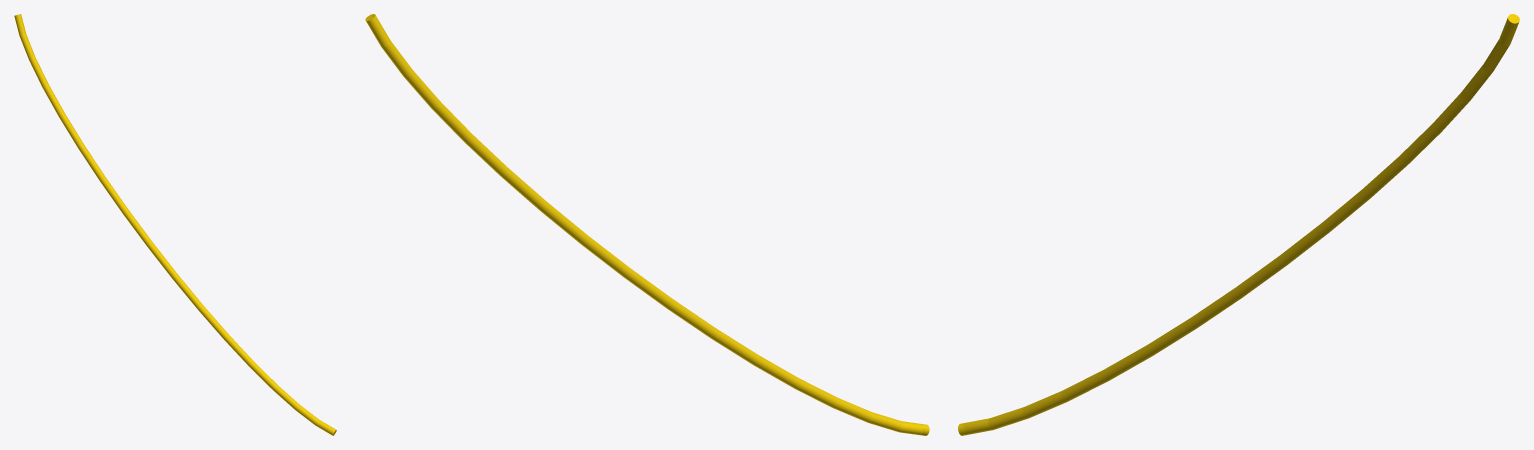
Rendered from Event_421364160_track_10.fbx.
The picture shows the model from 3 angles, left to right: view 1: azimuth 90°, elevation 25°; view 2: azimuth 150°, elevation 25°; view 3: azimuth 270°, elevation 25°; orthographic projection. The views are drawn at different scales.
Parts seen in each view (by area): view 1: Model; view 2: Model; view 3: Model.
Boxes of the visible parts, x1,y1,x2,y2 form: Model: (14,14,336,435); Model: (365,14,929,435); Model: (958,14,1519,435).
Size of the model in its own units: 1.25 by 2.06 by 1.82.
